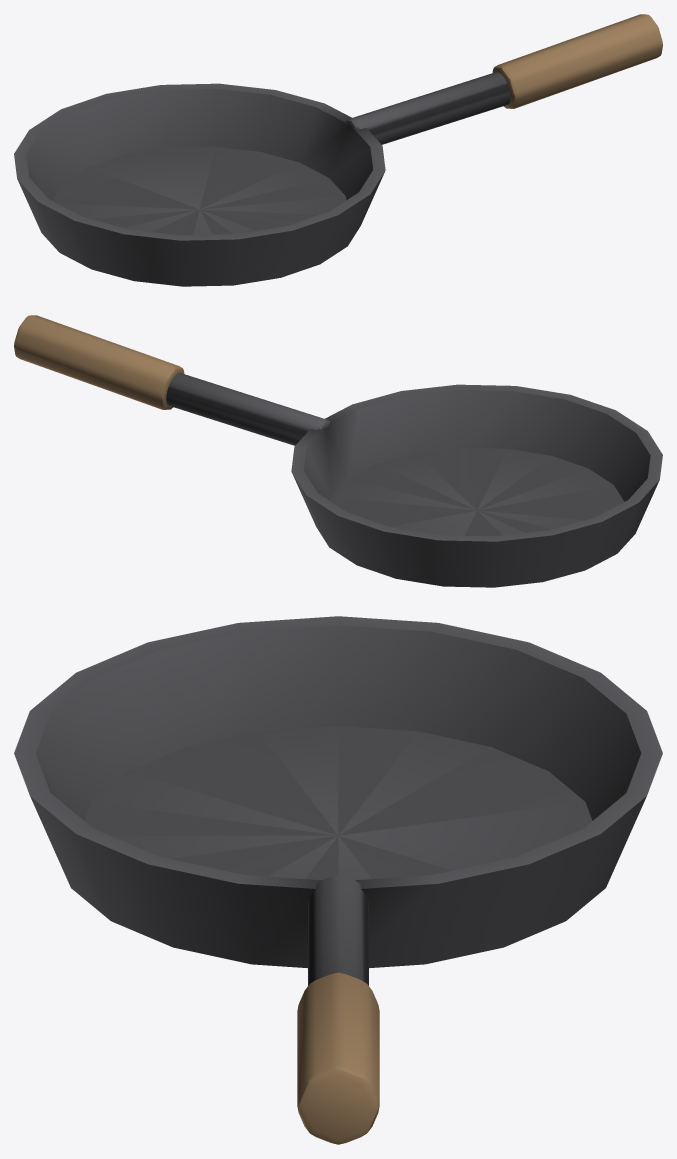
Rendered from pan.glb.
3 renders of one model, top to bottom at view 1: azimuth 30°, elevation 25°; view 2: azimuth 150°, elevation 25°; view 3: azimuth 270°, elevation 25°, orthographic. The views are drawn at different scales.
Parts seen in each view (by area): view 1: boat_pan, boat_wood2; view 2: boat_pan, boat_wood2; view 3: boat_pan, boat_wood2.
Part boxes in pixels (x1,y1,x2,y2): boat_pan: [14, 72, 510, 286]; boat_wood2: [492, 14, 662, 108]; boat_pan: [166, 373, 662, 587]; boat_wood2: [14, 315, 184, 409]; boat_pan: [14, 616, 662, 985]; boat_wood2: [297, 972, 379, 1144].
Size of the model in its own units: 0.5717 by 0.0836 by 0.3.
